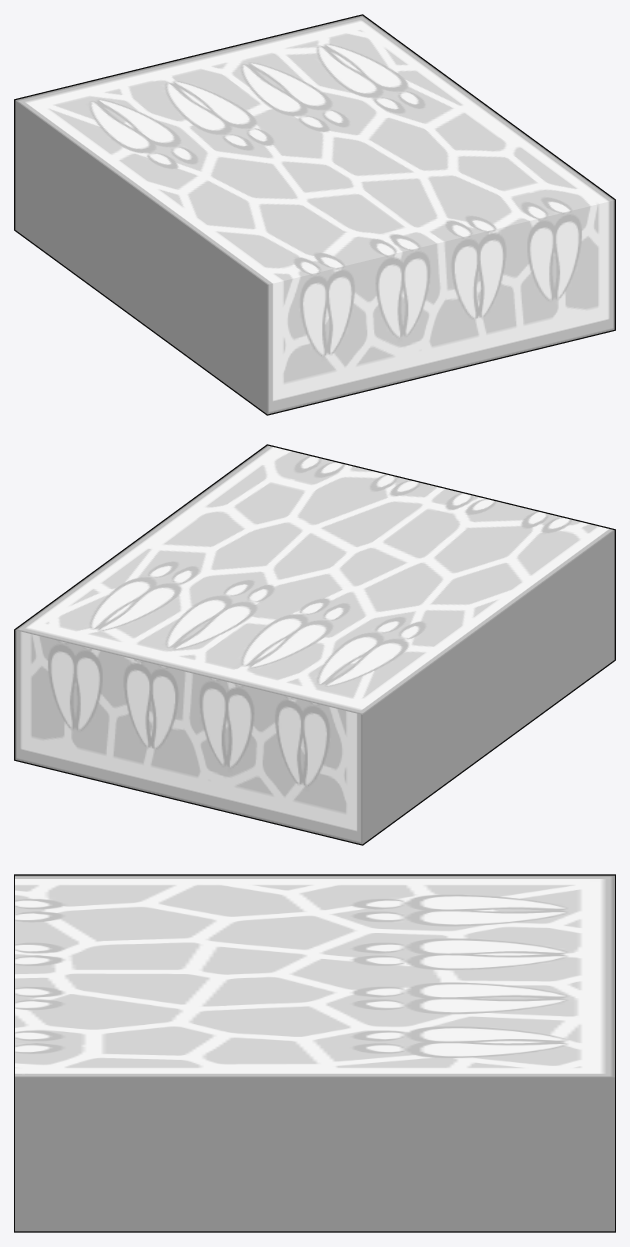
Rendered from Building_AnimalistSlab_Broad_Things_Building_FloorCoverings_SlabAnimalistBroad_SlabAnimalistBroadB.glb.
The picture shows the model from 3 angles, top to bottom: view 1: azimuth 30°, elevation 25°; view 2: azimuth 150°, elevation 25°; view 3: azimuth 270°, elevation 25°; orthographic projection. The views are drawn at different scales.
Parts seen in each view (by area): view 1: Body, Outline; view 2: Body, Outline; view 3: Body, Outline.
Boxes of the visible parts, <box> form: Body: <box>15,15,614,414</box>; Outline: <box>14,14,615,415</box>; Body: <box>15,445,614,844</box>; Outline: <box>14,444,615,845</box>; Body: <box>15,875,614,1231</box>; Outline: <box>14,874,615,1232</box>.
Bounding box in the file's own units: 1.99 × 0.7163 × 2.51.
2 materials, 1 textured.
